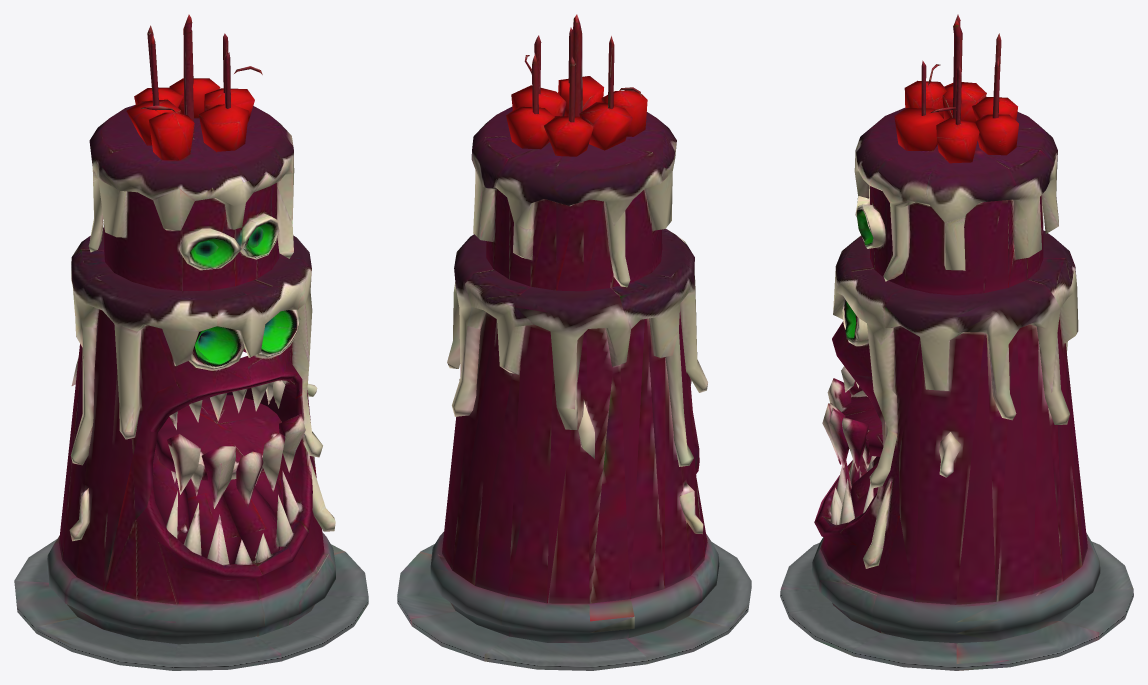
Rendered from banquet-cake.glb.
3 views of the same model, side by side, from view 1: azimuth 30°, elevation 25°; view 2: azimuth 150°, elevation 25°; view 3: azimuth 270°, elevation 25° (orthographic).
Bounding box in the file's own units: 0.5558 × 1 × 0.5564.
1 material, 1 textured.
